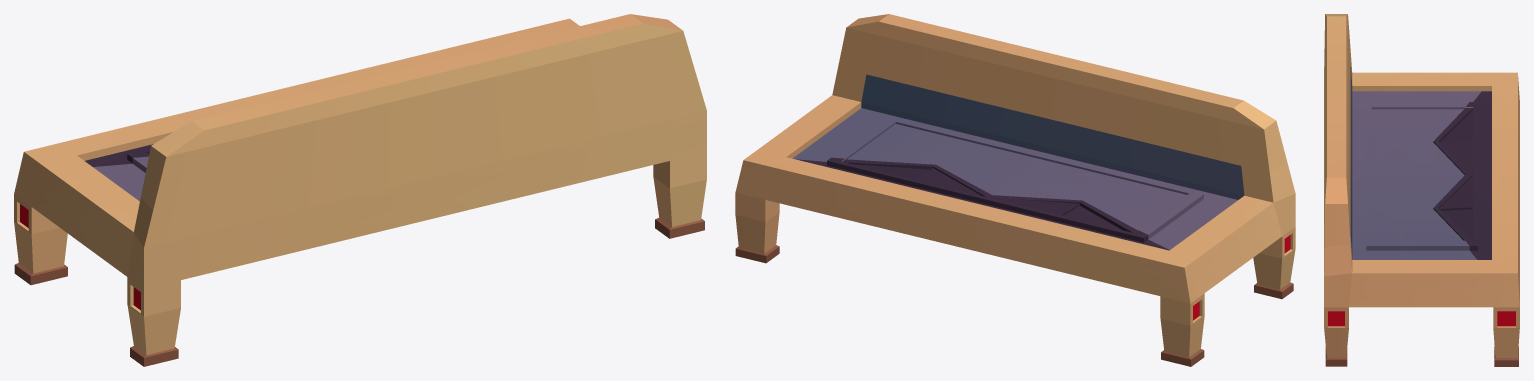
File: Prop_Bench_MountainCarving.fbx
The picture shows the model from 3 angles, left to right: view 1: azimuth 30°, elevation 25°; view 2: azimuth 150°, elevation 25°; view 3: azimuth 270°, elevation 25°; orthographic projection. The views are drawn at different scales.
Parts seen in each view (by area): view 1: MountaneerBench; view 2: MountaneerBench; view 3: MountaneerBench.
Boxes of the visible parts, left/top/right/bottom form: MountaneerBench: left=14, top=14, right=706, bottom=366; MountaneerBench: left=735, top=14, right=1295, bottom=366; MountaneerBench: left=1324, top=14, right=1519, bottom=366.
Bounding box in the file's own units: 134 × 50.23 × 53.52.
